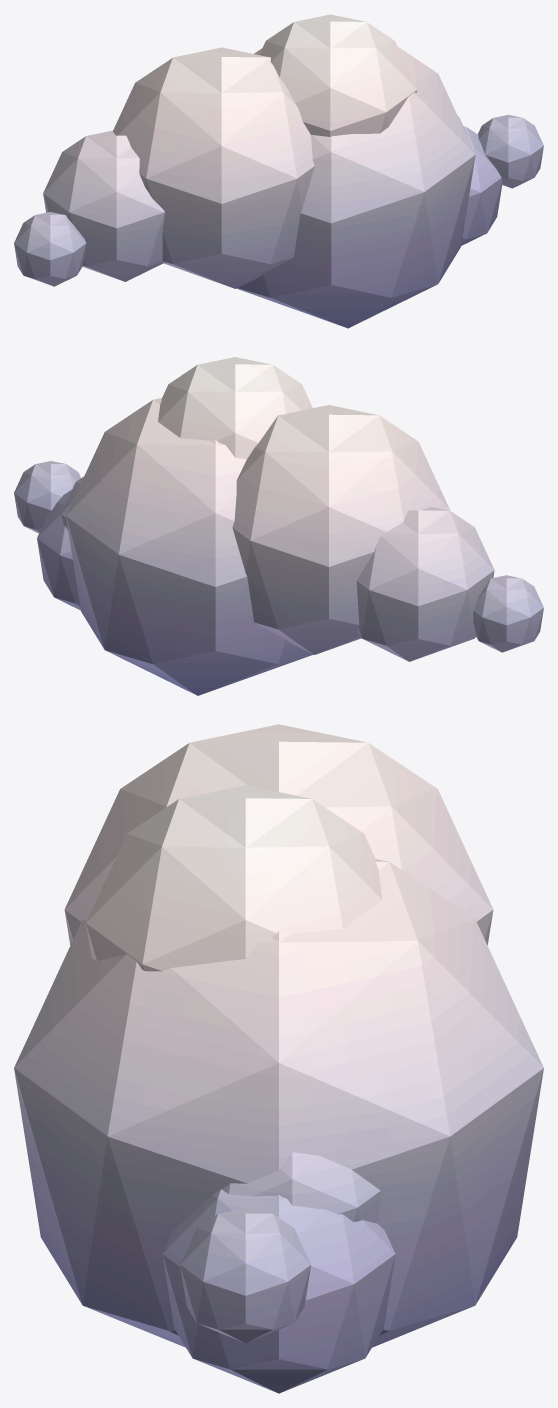
File: Cloud_002.FBX
The picture shows the model from 3 angles, top to bottom: view 1: azimuth 30°, elevation 25°; view 2: azimuth 150°, elevation 25°; view 3: azimuth 270°, elevation 25°; orthographic projection. The views are drawn at different scales.
Visible parts, largest first — view 1: Cloud_002; view 2: Cloud_002; view 3: Cloud_002.
Boxes of the visible parts, x1,y1,x2,y2 form: Cloud_002: (14, 14, 543, 328); Cloud_002: (14, 357, 543, 695); Cloud_002: (14, 724, 543, 1393).
Bounding box in the file's own units: 4.56 × 2.23 × 2.52.
